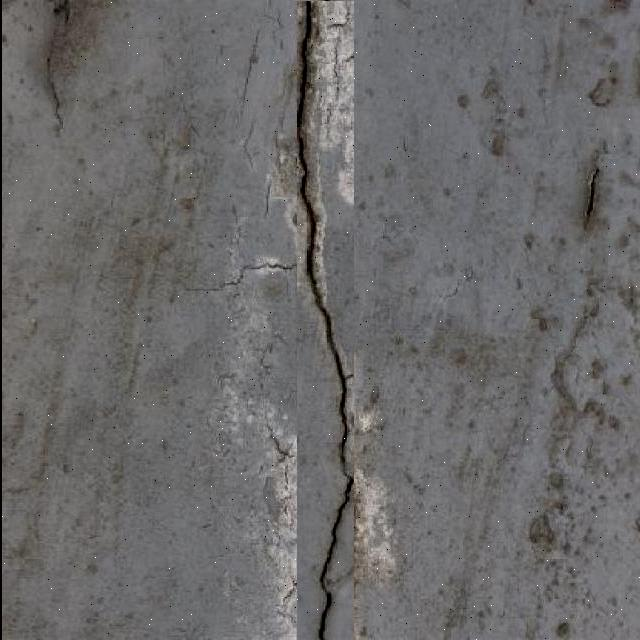crack: (295, 0, 356, 639)
dampness: (457, 134, 640, 640)
